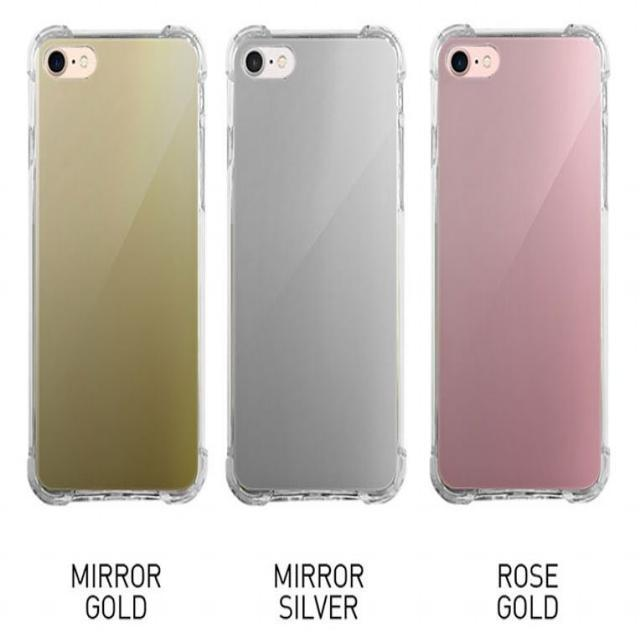phone: (224, 22, 408, 505), (430, 19, 612, 504), (27, 23, 208, 504)
